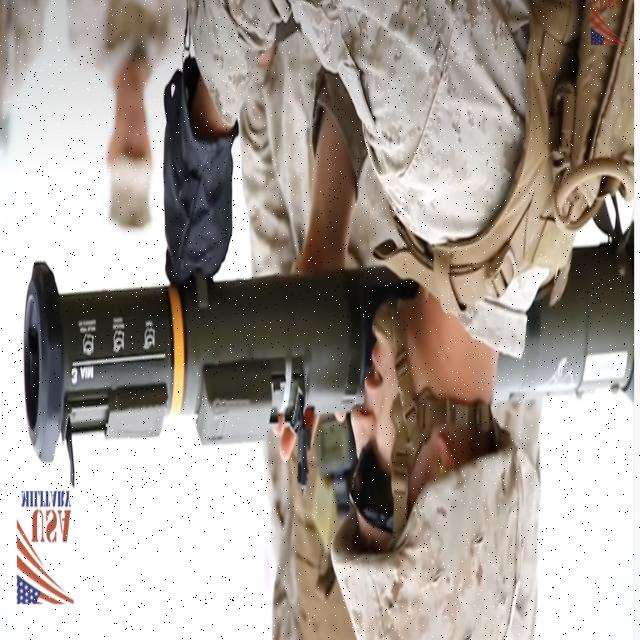bazooka: (21, 52, 640, 485)
